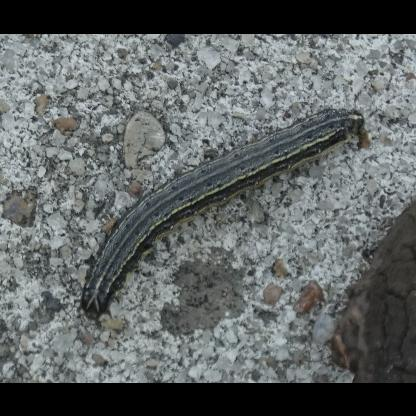Fall Armyworm Larvae: (75, 99, 370, 328)
